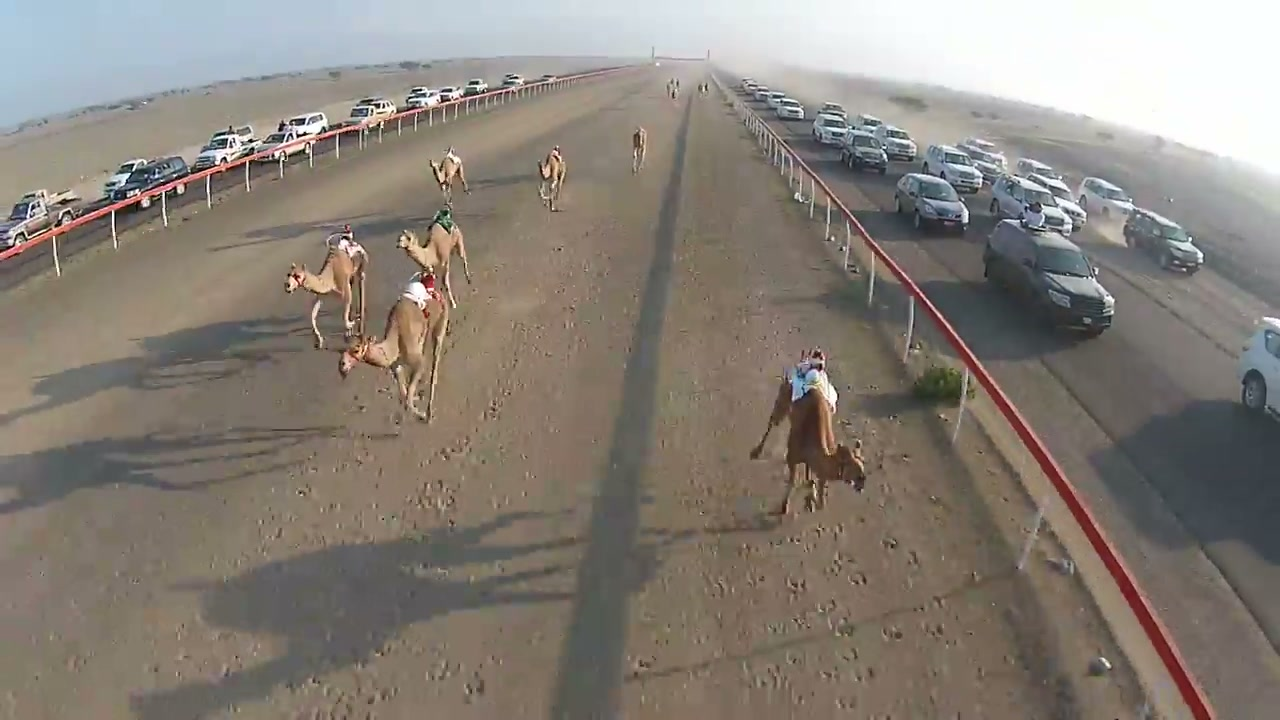animal_footprint: (268, 375, 404, 648), (780, 500, 884, 719)
